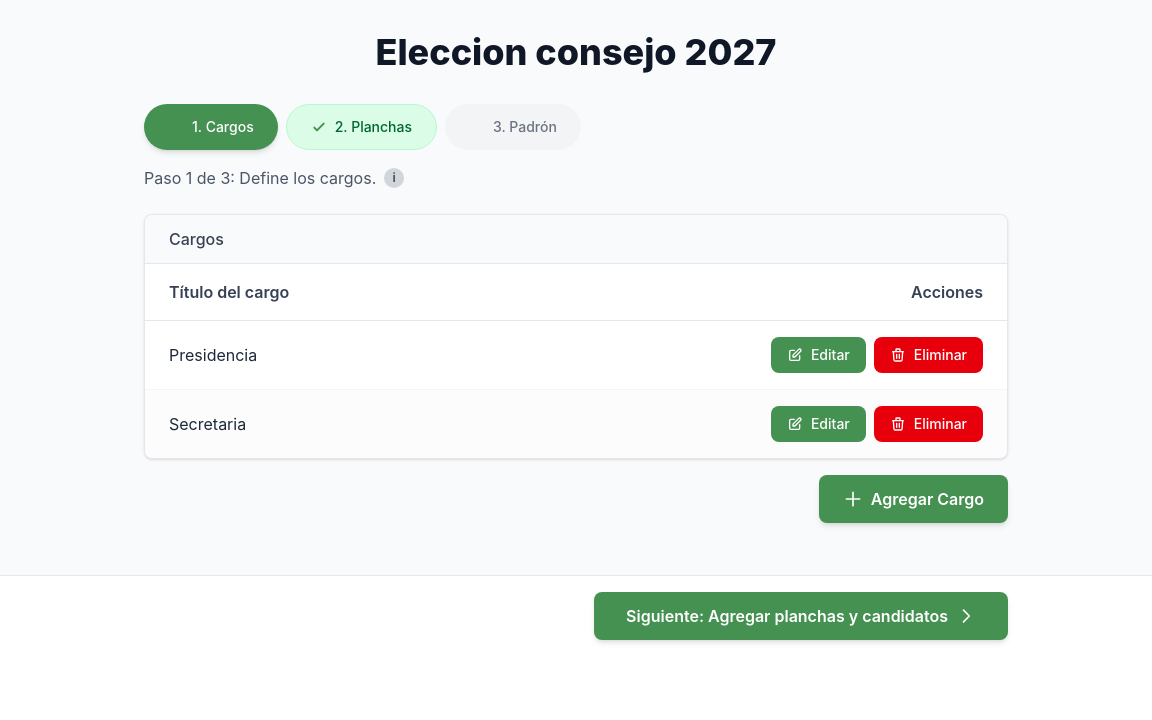
MX-04 | boleta y configuración › [MX-04][ELE-ROL-P0-003][INTEGRACION] conserva el modal ante cargo duplicado
The image size is (1152, 720).
Click the button "Agregar Cargo" at x=913, y=499, box [819, 475, 1008, 523]
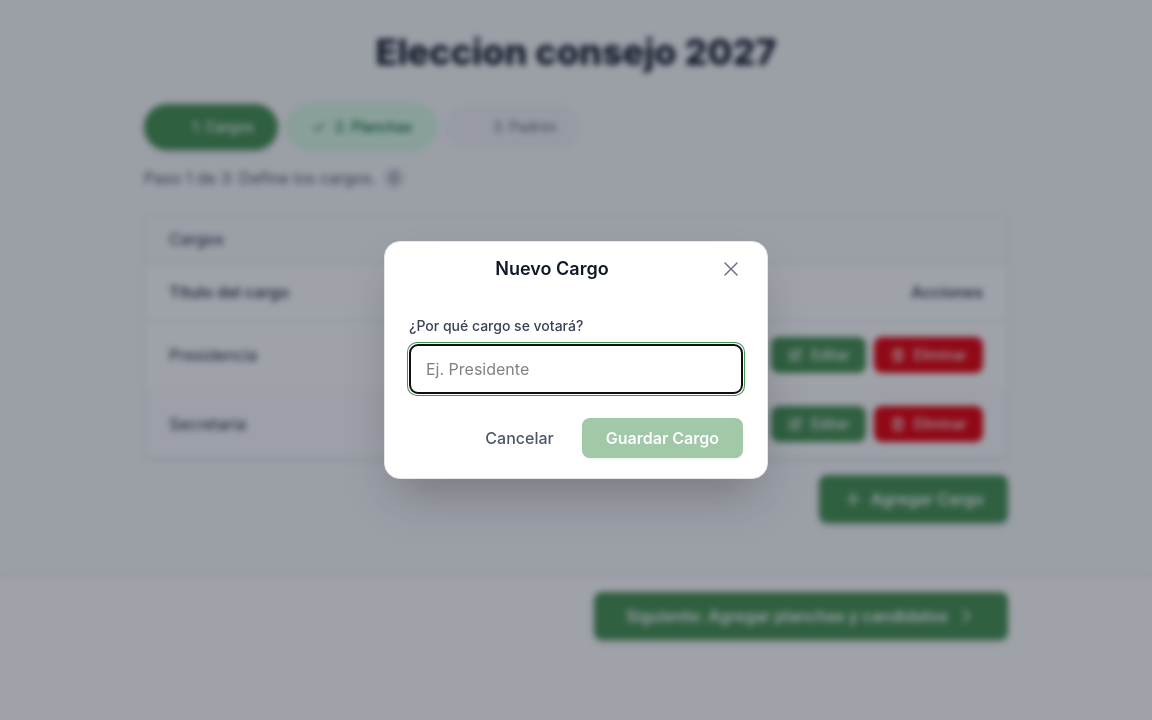
Type "Presidencia" into the field labelled "¿Por qué cargo se votará?" at x=576, y=369, box [409, 344, 743, 394]
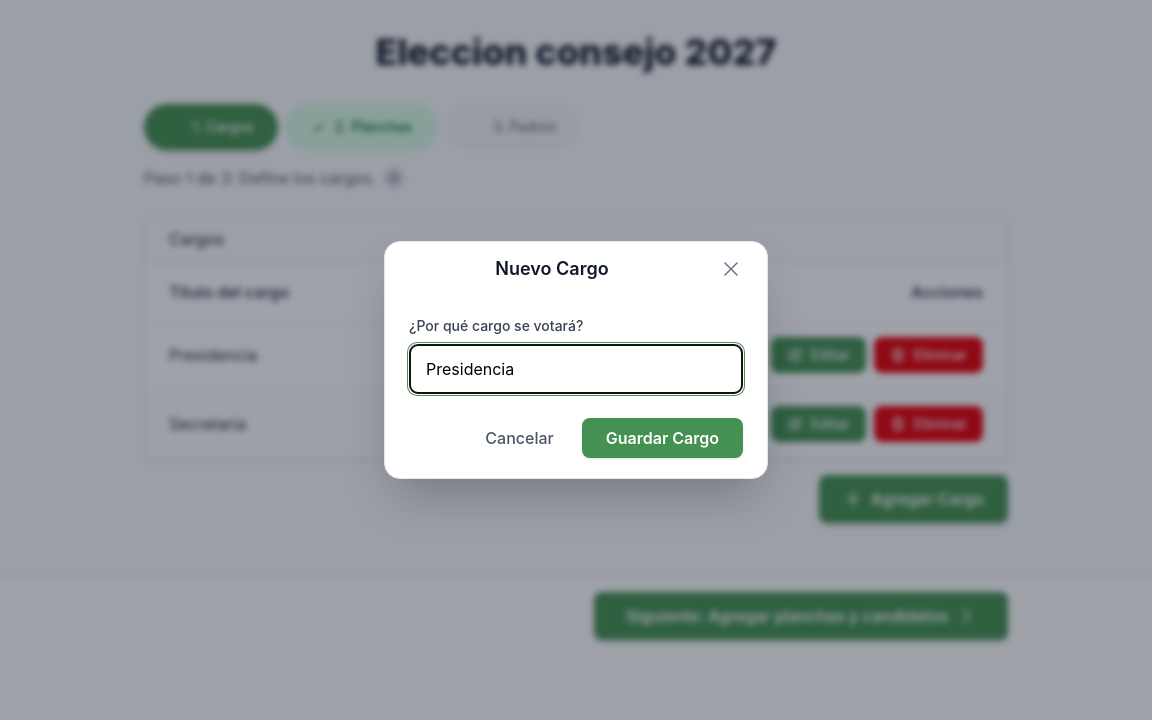
Click the button "Guardar Cargo" at x=662, y=438, box [582, 418, 743, 458]
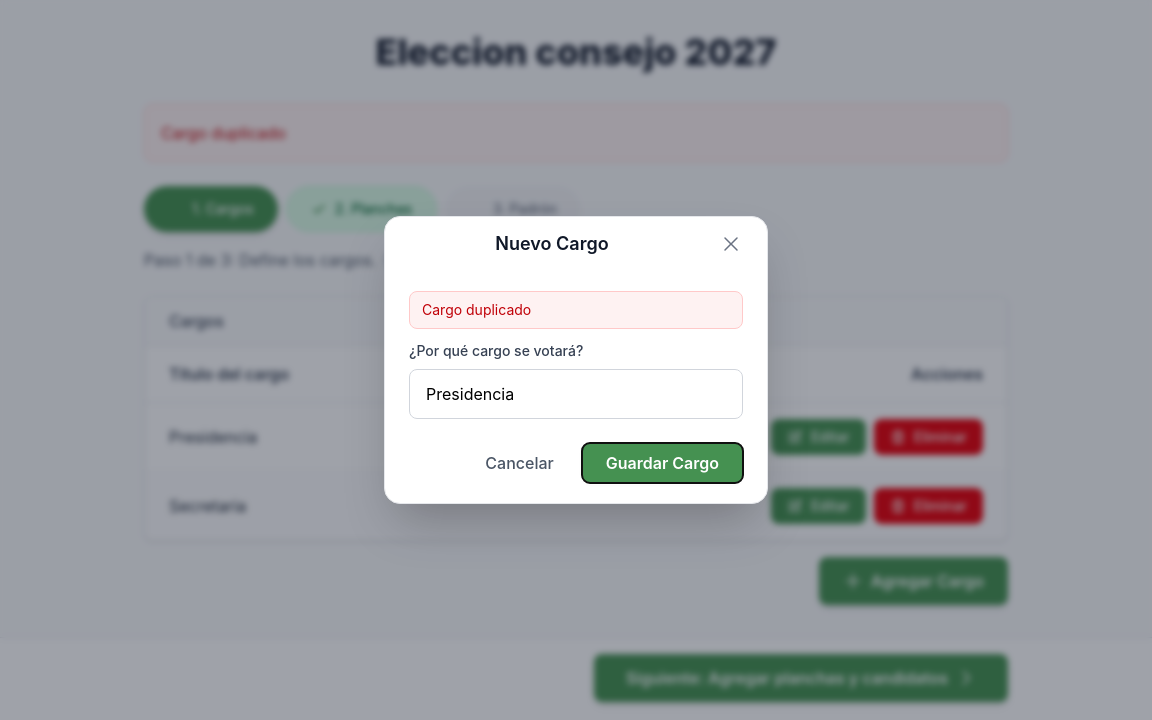
Expected: the button "Guardar Cargo" is shown, [582, 443, 743, 483]
Expected: the text "Cargo duplicado" is shown 2 times, [144, 104, 1008, 162]; [409, 291, 743, 329]
